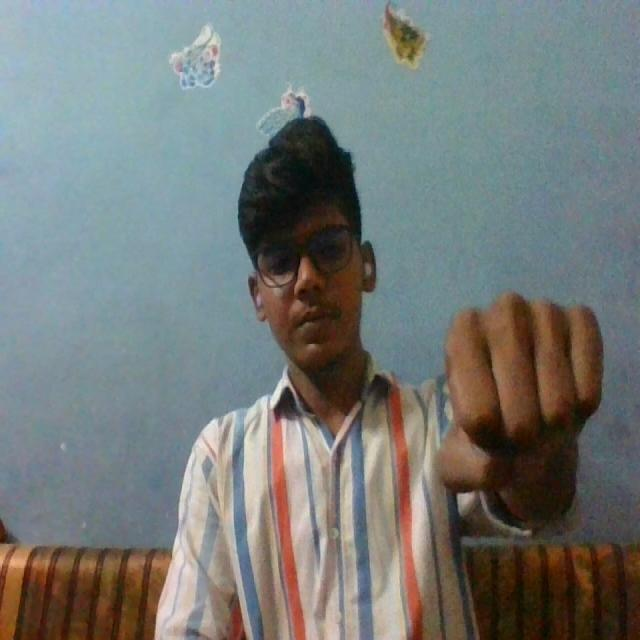Yes: (439, 289, 610, 495)
